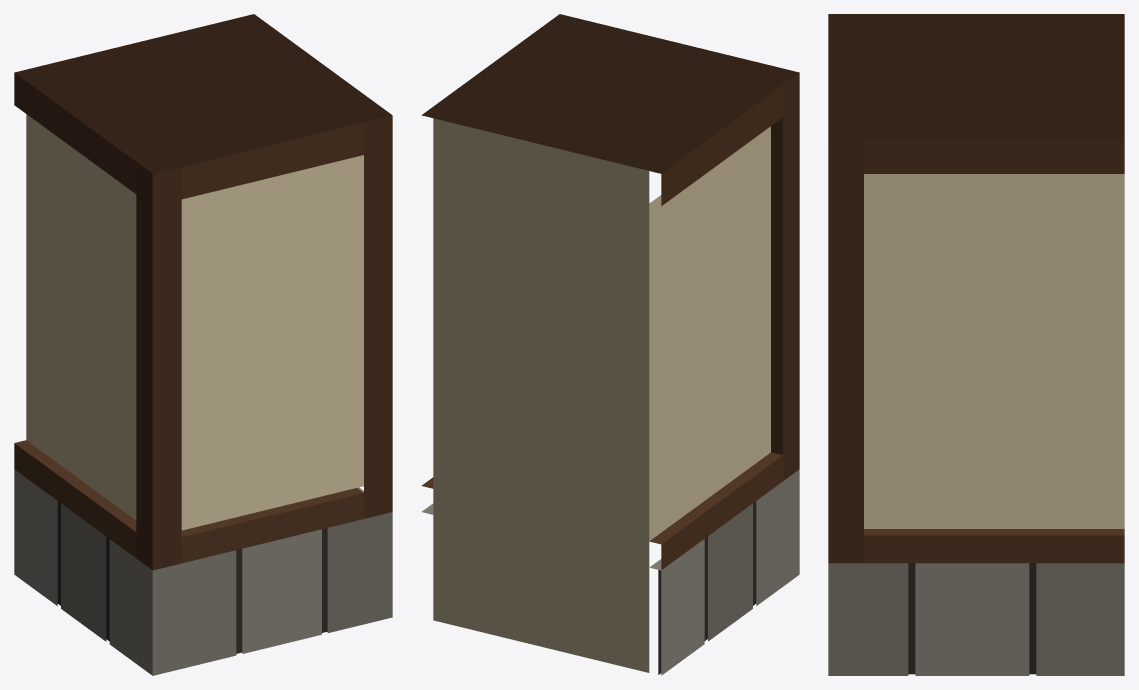
Rendered from tile_house_wall_1.glb.
The picture shows the model from 3 angles, left to right: view 1: azimuth 30°, elevation 25°; view 2: azimuth 150°, elevation 25°; view 3: azimuth 270°, elevation 25°; orthographic projection. The views are drawn at different scales.
Parts seen in each view (by area): view 1: tile_house_wall_1; view 2: tile_house_wall_1; view 3: tile_house_wall_1.
Part boxes in pixels (x1,y1,x2,y2): tile_house_wall_1: [14, 14, 392, 675]; tile_house_wall_1: [421, 14, 799, 675]; tile_house_wall_1: [828, 14, 1124, 675].
Size of the model in its own units: 1 by 2 by 1.
